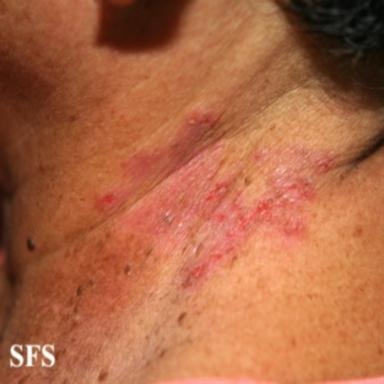Hailey-Hailey-Disease: (97, 111, 331, 285)
